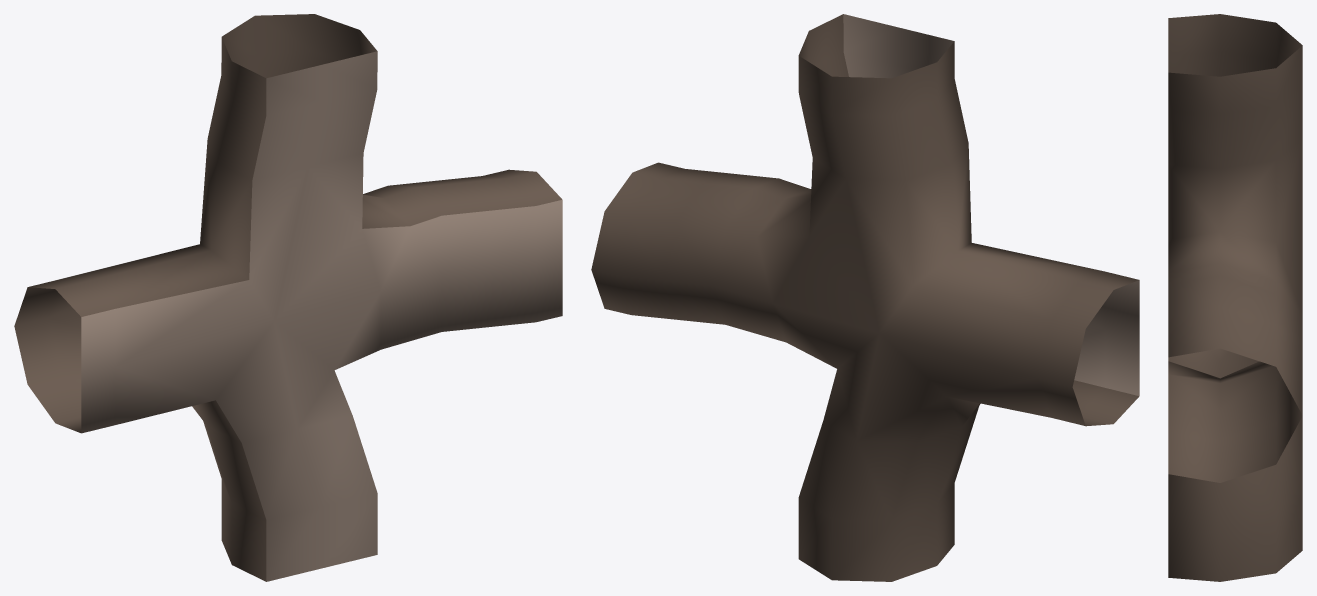
The model's file is cave_tile_3.dae.
3 renders of one model, left to right at view 1: azimuth 30°, elevation 25°; view 2: azimuth 150°, elevation 25°; view 3: azimuth 270°, elevation 25°, orthographic.
Visible parts, largest first — view 1: cave_tile_3; view 2: cave_tile_3; view 3: cave_tile_3.
Part boxes in pixels (bbox=[...]): cave_tile_3: bbox=[14, 14, 562, 581]; cave_tile_3: bbox=[591, 14, 1139, 581]; cave_tile_3: bbox=[1168, 14, 1302, 581].
Bounding box in the file's own units: 20 × 4.83 × 20.
